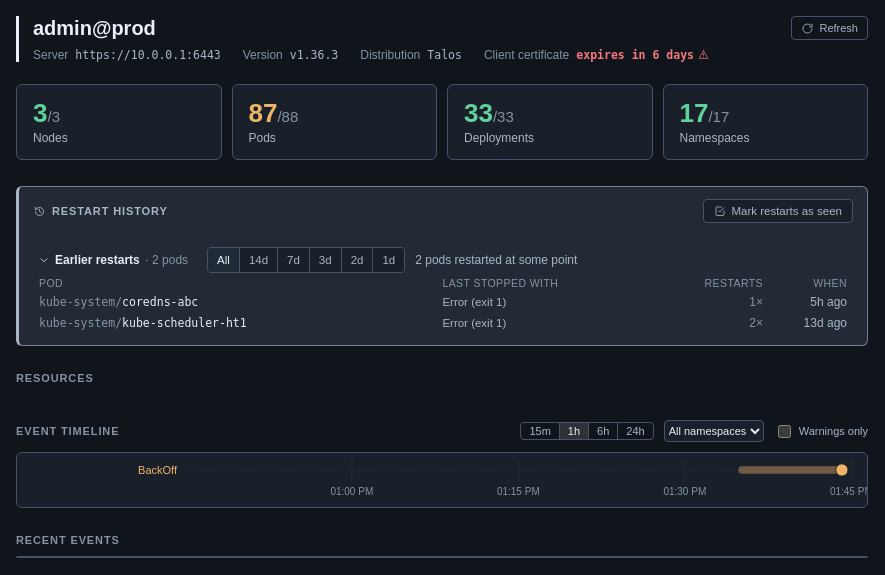
Test: old restarts are history, not trouble, and can be hidden and shown again
Expected: the heading "Restart history" is shown, [33, 205, 168, 218]
Click the button "Mark restarts as seen": x=778, y=211 [703, 199, 853, 223]
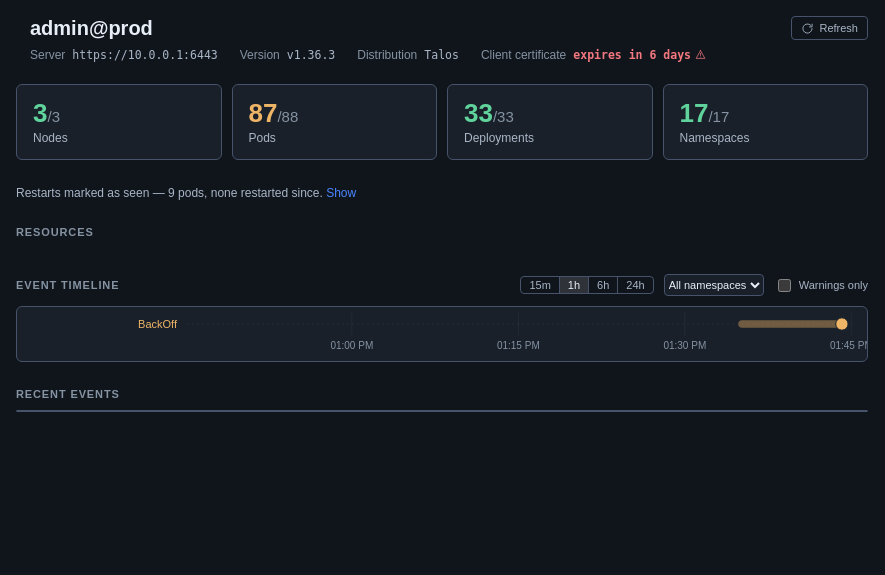
Expected: the text "Restarts marked as seen — 9 pods, none restarted since. Show" is shown, [16, 186, 356, 200]
Click the button "Show": x=341, y=193 [326, 186, 356, 200]
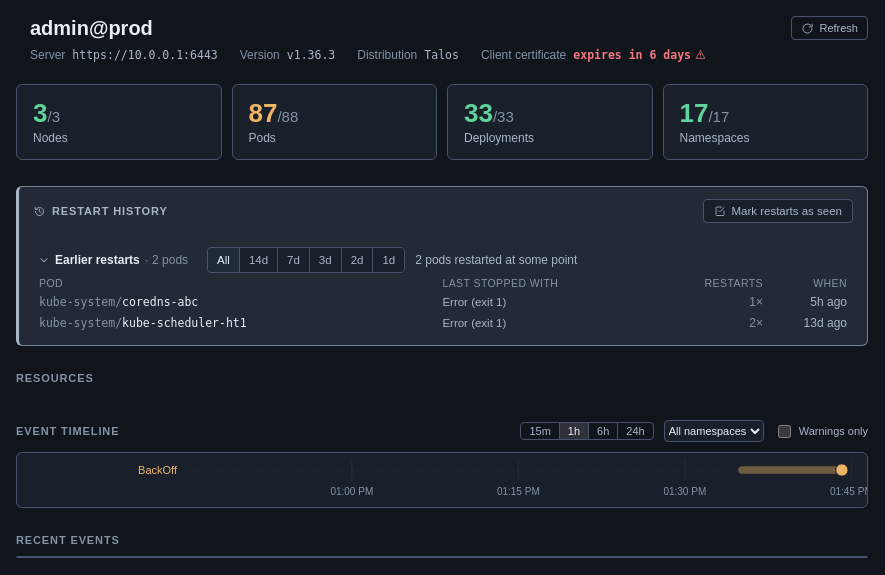
Expected: the heading "Restart history" is shown, [33, 205, 168, 218]
Expected: the text "kube-scheduler-ht1" is shown, [122, 316, 247, 330]
